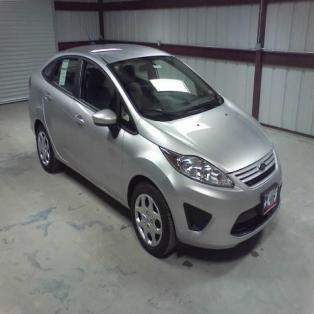Auto: (26, 41, 282, 260)
